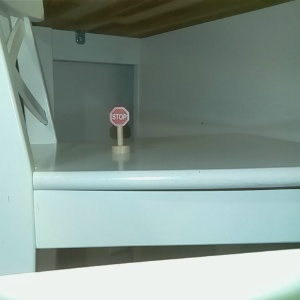stop sign: (107, 105, 132, 156)
